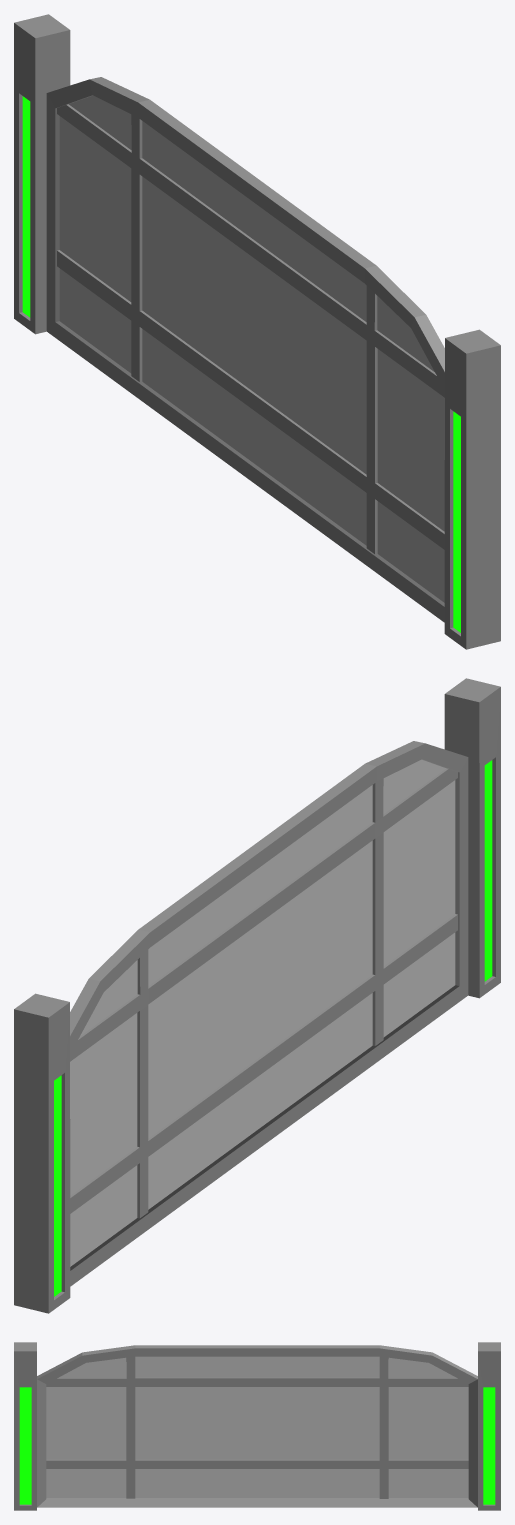
The model's file is Fence_06.FBX.
3 views of the same model, one above another, from view 1: azimuth 30°, elevation 25°; view 2: azimuth 150°, elevation 25°; view 3: azimuth 270°, elevation 25° (orthographic). The views are drawn at different scales.
Parts seen in each view (by area): view 1: Fence_06_LOD0; view 2: Fence_06_LOD0; view 3: Fence_06_LOD0.
Boxes of the visible parts, x1=… form: Fence_06_LOD0: x1=14, y1=14, x2=500, y2=649; Fence_06_LOD0: x1=14, y1=678, x2=500, y2=1313; Fence_06_LOD0: x1=14, y1=1342, x2=500, y2=1510.
Size of what is drawn, in the model's own units: 8 by 65 by 180.
